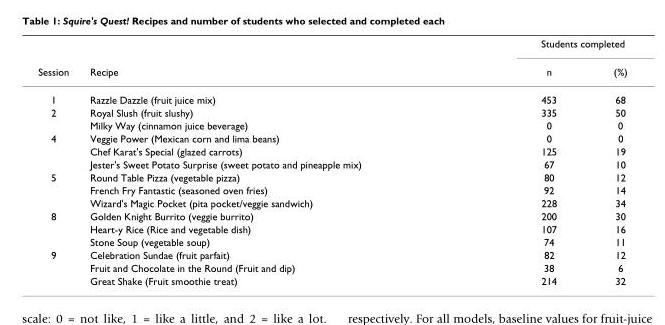table: (37, 37, 626, 286)
table column: (78, 37, 450, 286), (450, 37, 584, 286), (584, 37, 626, 286), (37, 37, 78, 286)
table column header: (37, 37, 626, 85)
table row: (37, 57, 626, 85), (37, 37, 626, 57), (37, 85, 626, 105), (37, 105, 626, 118), (37, 118, 626, 131), (37, 131, 626, 144), (37, 144, 626, 157), (37, 157, 626, 170), (37, 170, 626, 183), (37, 183, 626, 196), (37, 196, 626, 209), (37, 209, 626, 222), (37, 222, 626, 235), (37, 235, 626, 248), (37, 260, 626, 273), (37, 273, 626, 286), (37, 248, 626, 260)
table spanning cell: (78, 37, 450, 85), (450, 37, 626, 57), (37, 37, 78, 85), (37, 131, 78, 170), (37, 170, 78, 209), (37, 209, 78, 248), (37, 248, 78, 286), (37, 105, 78, 131)
